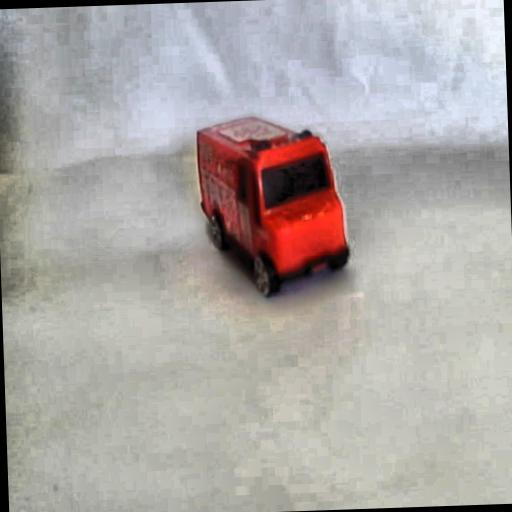fire_truck: (189, 106, 354, 304)
